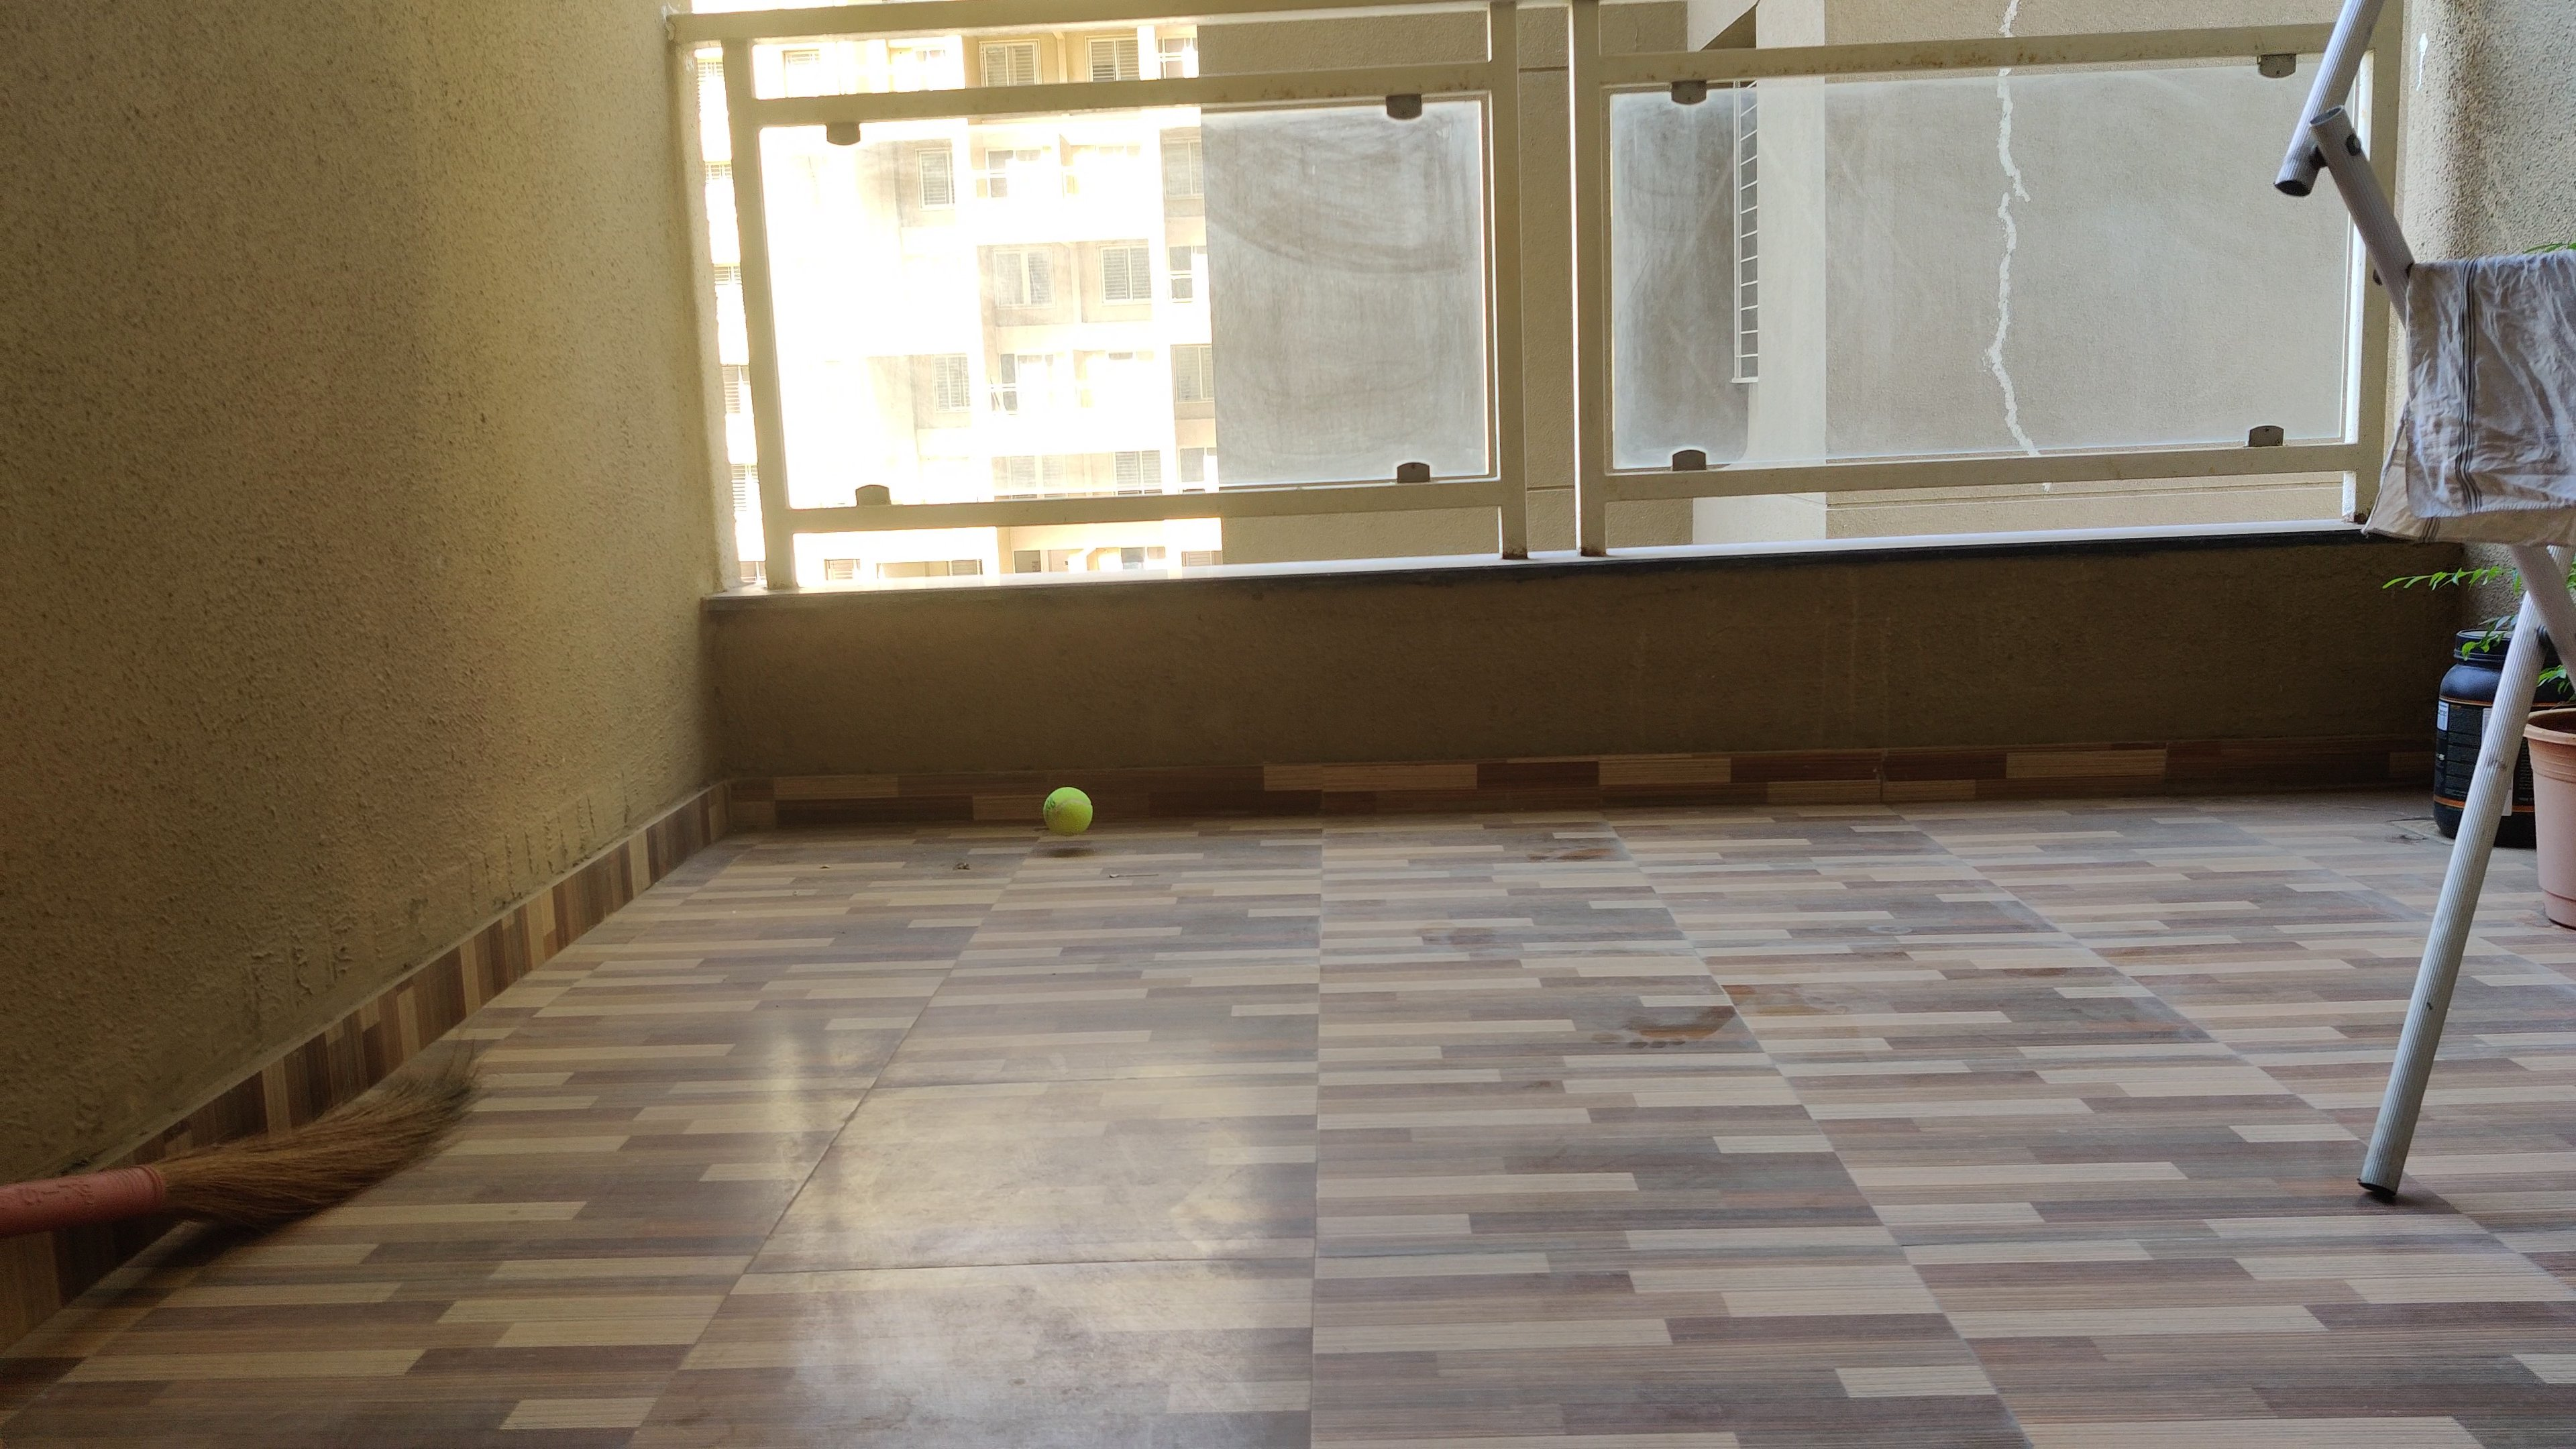Tennis-Ball: (1044, 786, 1093, 837)
